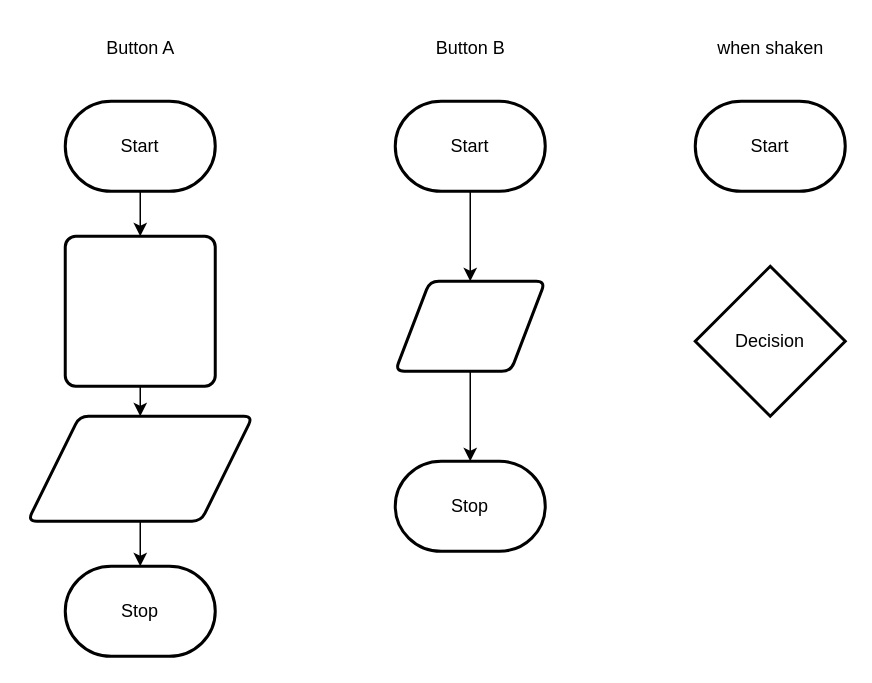
Some shapes in this 872 by 683 pixel diagram are drawn without their labels. Each missing label, with the centre of its shape:
display happy face: [140,468]
Display score: [469,325]
score = score + 1: [139,310]
